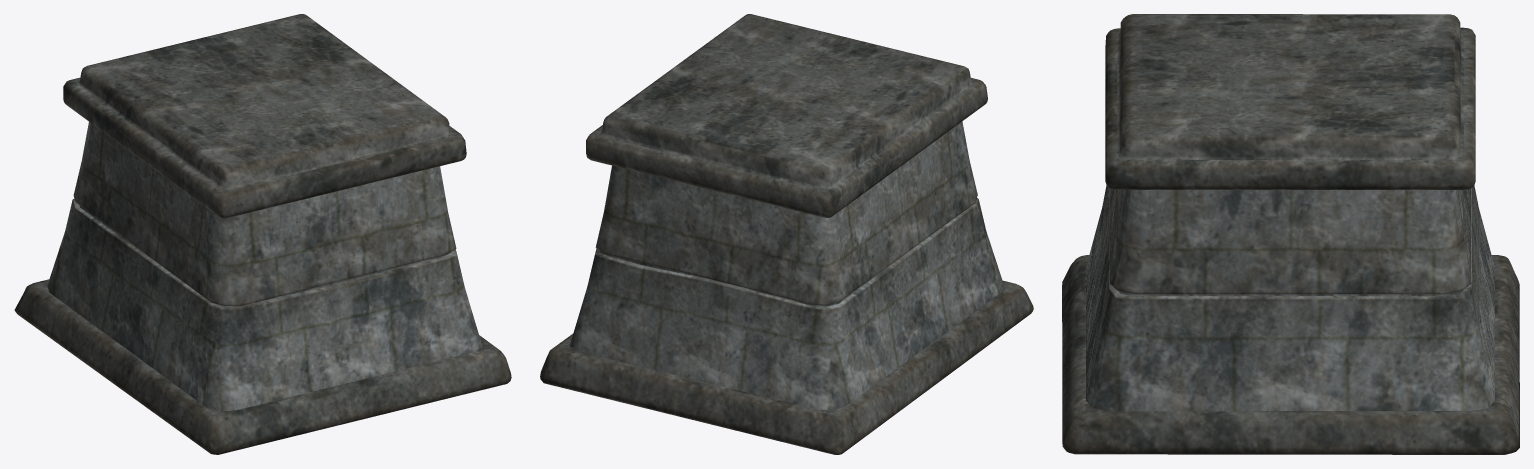
3 renders of one model, left to right at view 1: azimuth 30°, elevation 25°; view 2: azimuth 150°, elevation 25°; view 3: azimuth 270°, elevation 25°, orthographic. The views are drawn at different scales.
Parts seen in each view (by area): view 1: Base1; view 2: Base1; view 3: Base1.
Part boxes in pixels (x1=…): Base1: x1=14, y1=14, x2=511, y2=454; Base1: x1=540, y1=14, x2=1033, y2=454; Base1: x1=1062, y1=14, x2=1519, y2=454.
Bounding box in the file's own units: 1.15 × 0.9247 × 1.29.
